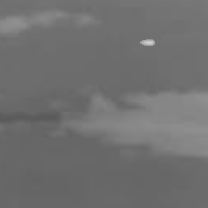Target: (139, 38, 156, 47)
